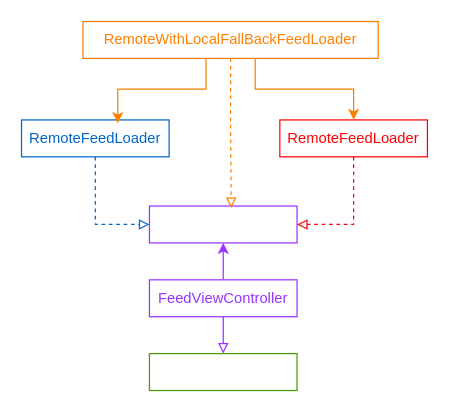
Image size: 449x412. Some labels were removed from this diagram. The box of each missing label's shape, as (x1, y1, x2, y2) in pixels:
<FeedLoader>: (148, 205, 297, 243)
UIViewController: (148, 352, 297, 391)
